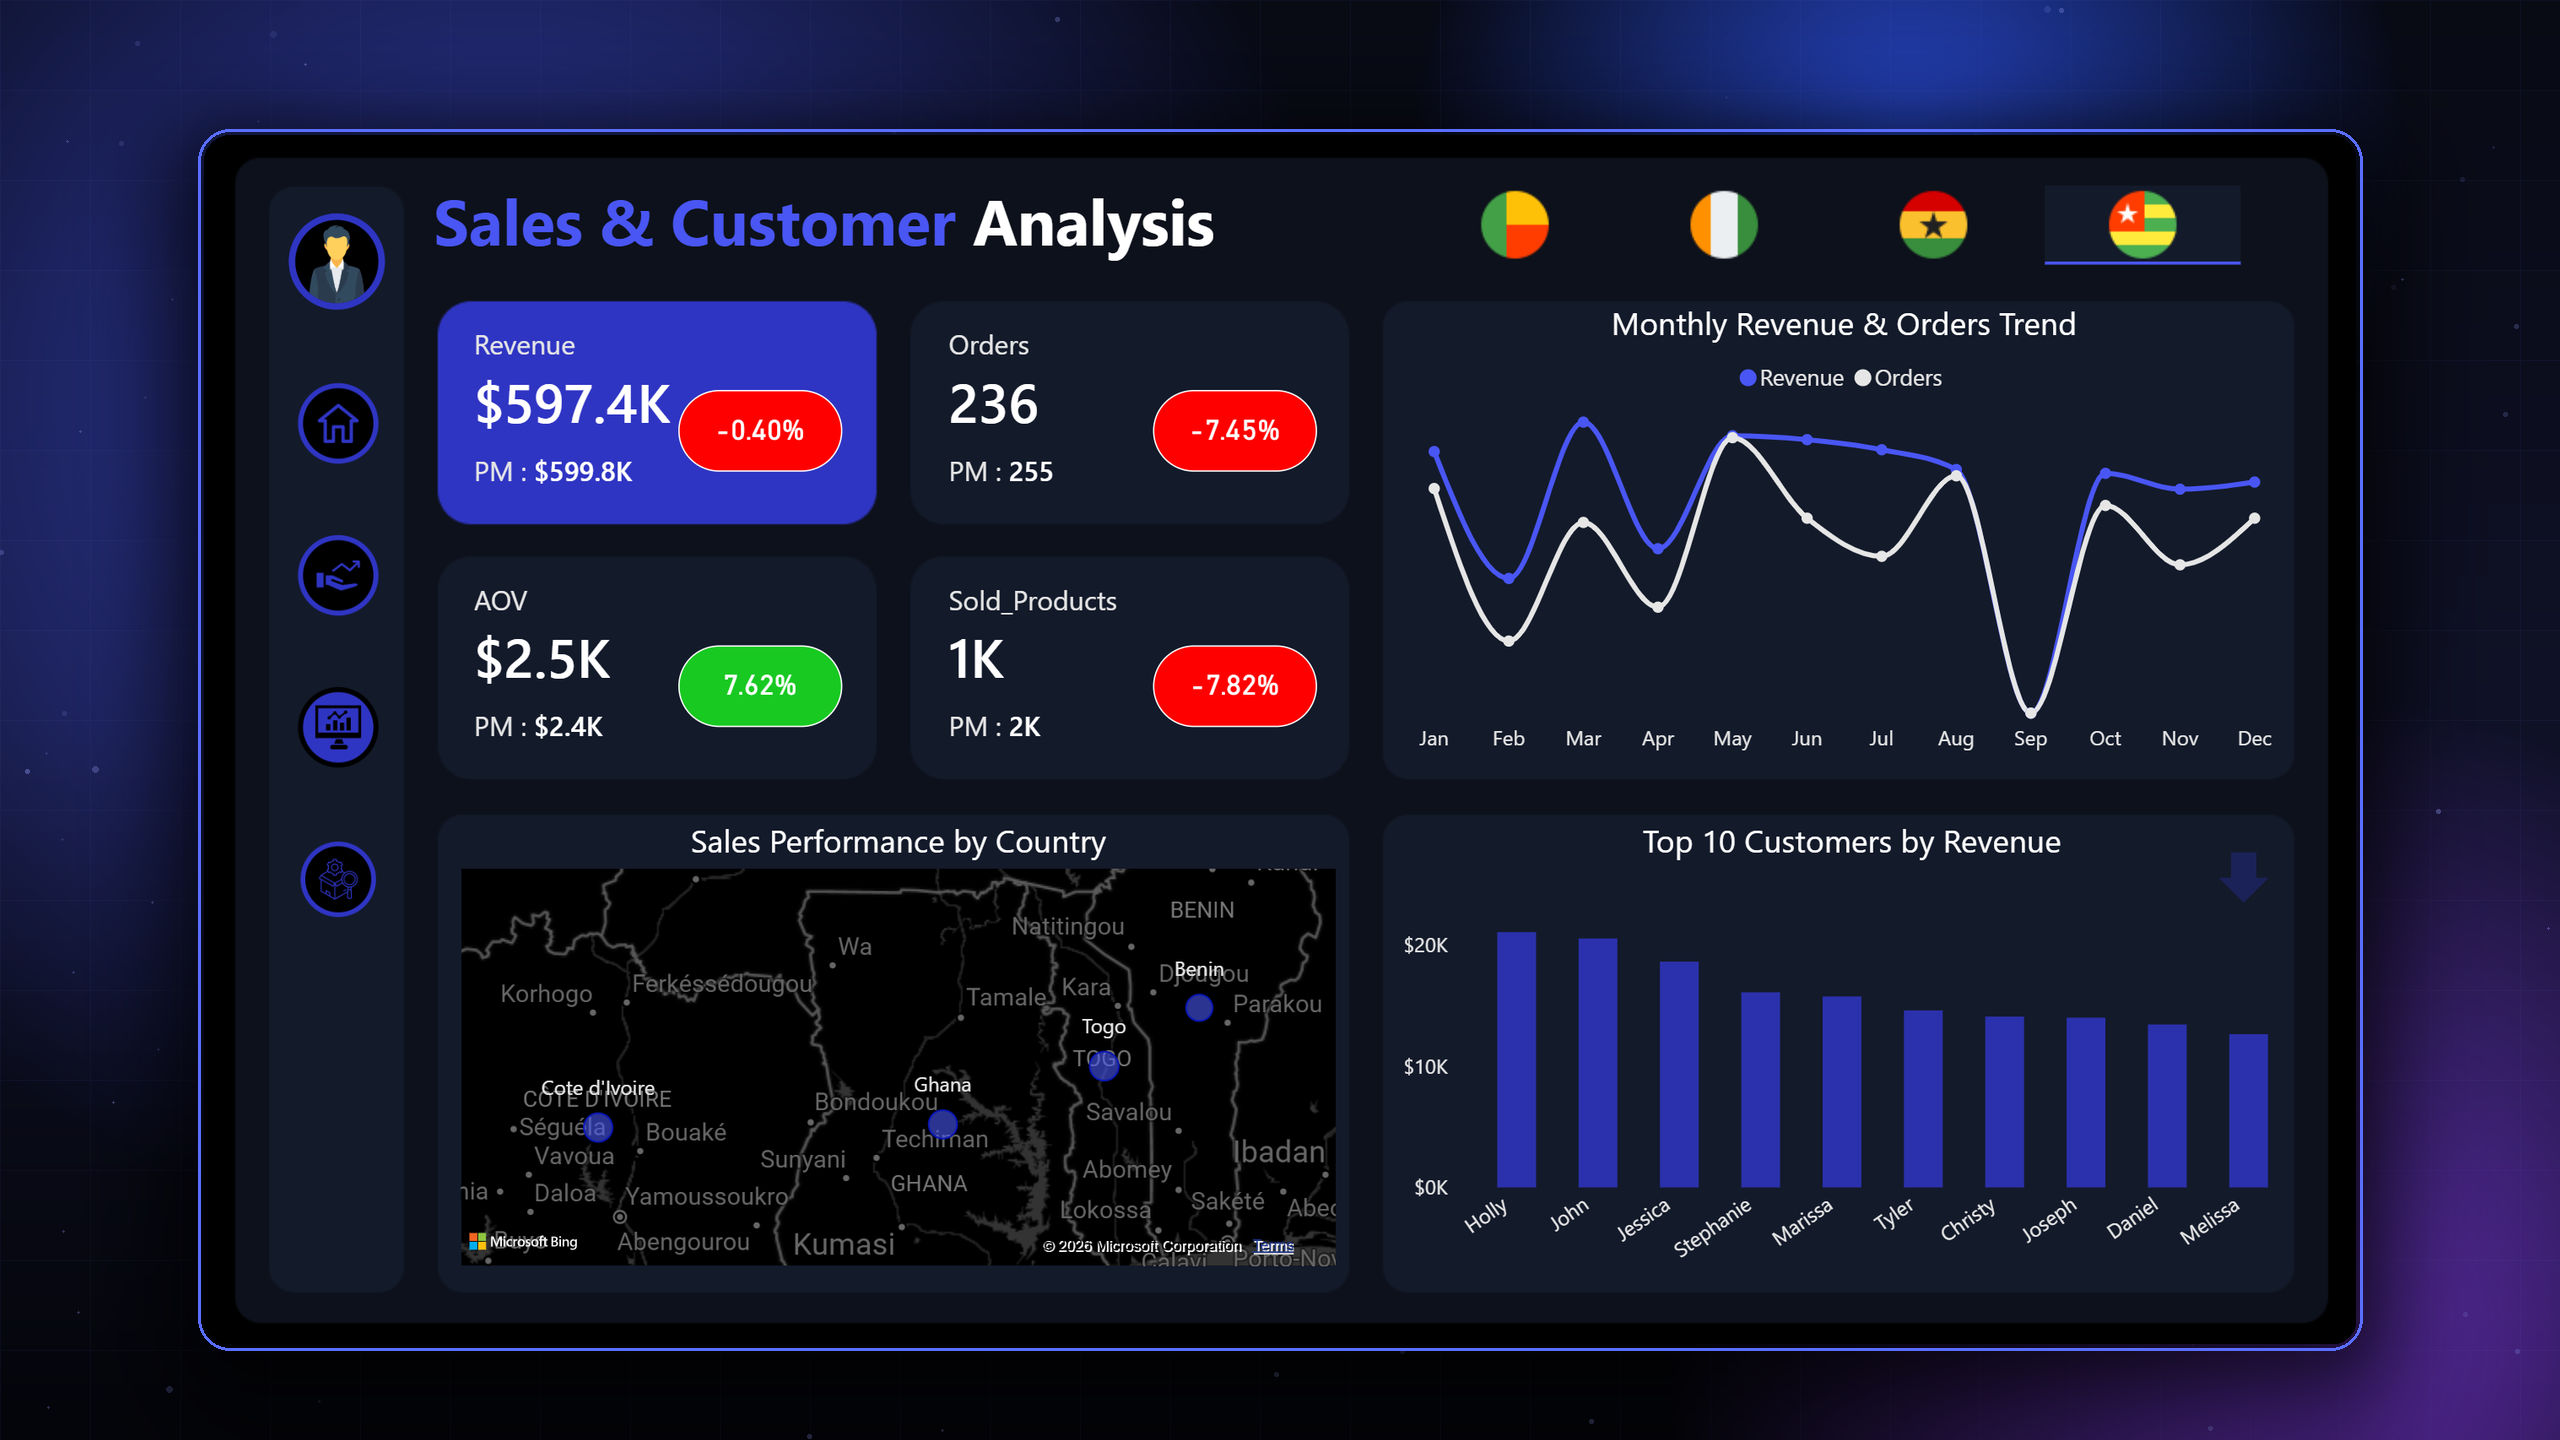

What the dashboard file says about the page in this screenshot:
{"tool":"powerbi","page":{"name":"Sales & Customer Analysis","canvas":[1280,720],"ordinal":2},"visuals":[{"type":"cardVisual","fields":{"Data":["DAX.Revenue"]},"box":[132.9,100,300,154.3],"z":1000},{"type":"card","fields":{"Values":["DAX.Revenue_G%"]},"box":[282.9,152.9,97.1,48.6],"z":2000},{"type":"cardVisual","fields":{"Data":["DAX.Orders"]},"box":[414.3,100,300,154.3],"z":3000},{"type":"card","fields":{"Values":["DAX.Orders_G%"]},"box":[564.3,152.9,97.1,48.6],"z":4000},{"type":"cardVisual","fields":{"Data":["DAX.AOV"]},"box":[132.9,251,300,154.3],"z":5000},{"type":"card","fields":{"Values":["DAX.AOV_G%"]},"box":[282.9,304.3,97.1,48.6],"z":6000},{"type":"cardVisual","fields":{"Data":["DAX.Sold_Products"]},"box":[414.3,251.4,300,154.3],"z":7000},{"type":"card","fields":{"Values":["DAX.Sold_Products_G%"]},"box":[564.3,304.3,97.1,48.6],"z":8000},{"type":"textbox","box":[133,21.4,481,68.6],"z":9000},{"type":"map","title":"Sales Performance by Country","fields":{"Size":["DAX.Revenue"],"Category":["Dim_Customer.Country"]},"box":[148.3,406.7,528.3,270],"z":10000},{"type":"clusteredColumnChart","title":"Top 10 Customers by Revenue","fields":{"Y":["DAX.Revenue"],"Category":["Dim_Customer.Name"]},"box":[706.7,406.7,543.3,283.3],"z":11000},{"type":"lineChart","title":"Monthly Revenue & Orders Trend","fields":{"Category":["Dim_Calendar.Month"],"Y":["DAX.Revenue"],"Y2":["DAX.Orders"]},"box":[707.1,100,531.4,277.1],"z":12000},{"type":"advancedSlicerVisual","fields":{"Values":["Dim_Customer.Country Flag"]},"box":[714.4,26.4,498.3,57.6],"z":13000},{"type":"shape","title":"Bottom","box":[1195,426,30,30],"z":14000},{"type":"image","box":[45.2,41.7,70.2,70.2],"z":17000},{"type":"image","box":[51.2,413.1,59.5,59.5],"z":18000},{"type":"image","box":[51.2,142.6,59.5,59.5],"z":19000},{"type":"image","box":[51,322,59.5,59.5],"z":20000},{"type":"image","box":[51,232,59.5,59.5],"z":21000}]}

Visuals, with their boxes in screenshot pixels (x1, y1, x2, y2), scaled from the page's 1280x720 canvas onto the 2560x1440 screenshot:
cardVisual - DAX.Revenue: crop(266, 200, 866, 509)
card - DAX.Revenue_G%: crop(566, 306, 760, 403)
cardVisual - DAX.Orders: crop(829, 200, 1429, 509)
card - DAX.Orders_G%: crop(1129, 306, 1323, 403)
cardVisual - DAX.AOV: crop(266, 502, 866, 811)
card - DAX.AOV_G%: crop(566, 609, 760, 706)
cardVisual - DAX.Sold_Products: crop(829, 503, 1429, 811)
card - DAX.Sold_Products_G%: crop(1129, 609, 1323, 706)
textbox: crop(266, 43, 1228, 180)
"Sales Performance by Country" map: crop(297, 813, 1353, 1353)
"Top 10 Customers by Revenue" clusteredColumnChart: crop(1413, 813, 2500, 1380)
"Monthly Revenue & Orders Trend" lineChart: crop(1414, 200, 2477, 754)
advancedSlicerVisual - Dim_Customer.Country Flag: crop(1429, 53, 2425, 168)
"Bottom" shape: crop(2390, 852, 2450, 912)
image: crop(90, 83, 231, 224)
image: crop(102, 826, 221, 945)
image: crop(102, 285, 221, 404)
image: crop(102, 644, 221, 763)
image: crop(102, 464, 221, 583)
